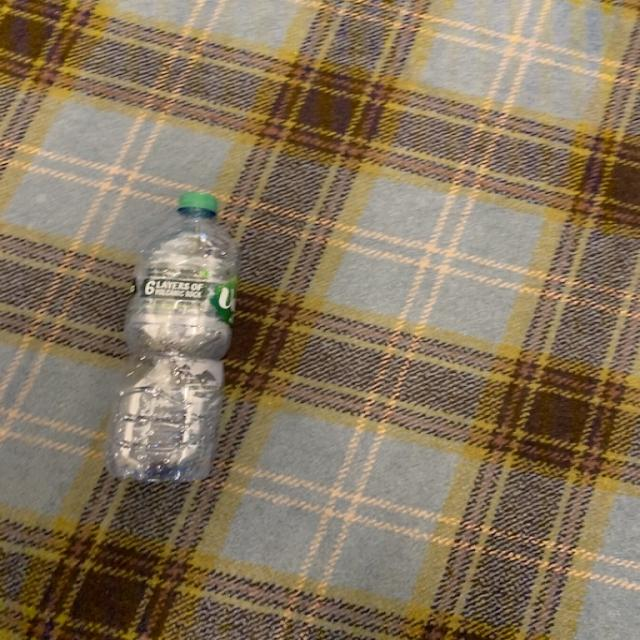litter: (105, 193, 244, 485)
